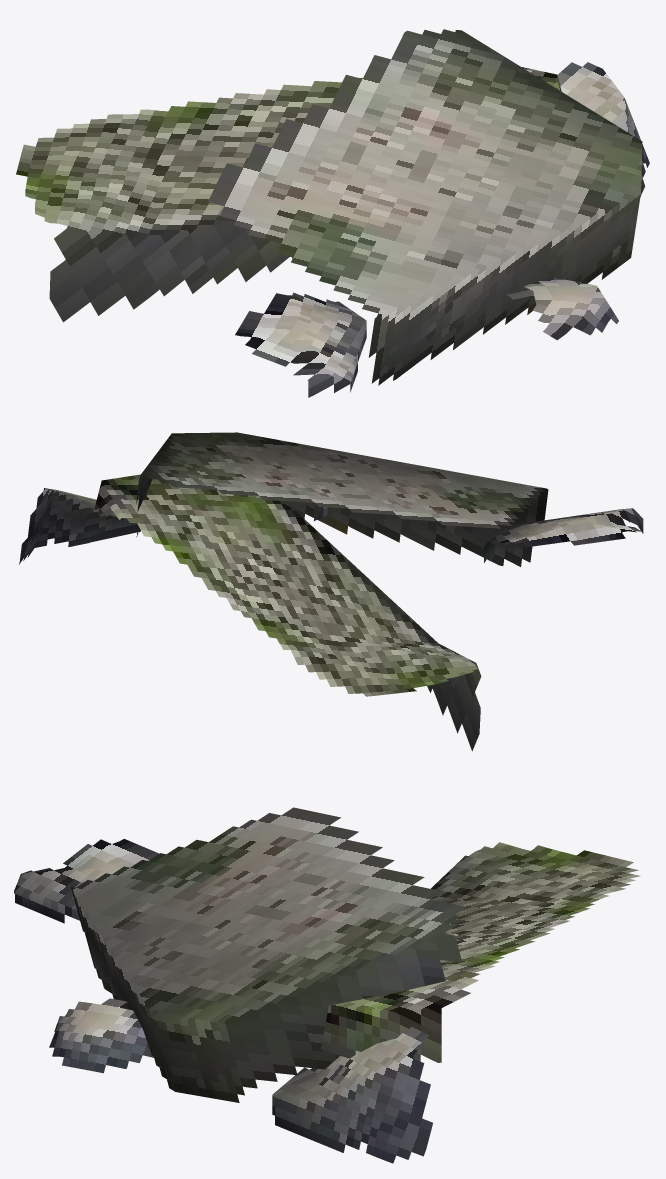
The picture shows the model from 3 angles, top to bottom: view 1: azimuth 30°, elevation 25°; view 2: azimuth 150°, elevation 25°; view 3: azimuth 270°, elevation 25°; orthographic projection. The views are drawn at different scales.
Visible parts, largest first — view 1: 25DBG_Sector01_Zone01_Prop_GroundRock_3, 25DBG_Sector01_Zone01_Prop_GroundRock_2, 25DBG_Sector01_Zone01_Prop_Pebble_2, 25DBG_Sector01_Zone01_Prop_Pebble_3, 25DBG_Sector01_Zone01_Prop_Pebble_1; view 2: 25DBG_Sector01_Zone01_Prop_GroundRock_2, 25DBG_Sector01_Zone01_Prop_GroundRock_3, 25DBG_Sector01_Zone01_Prop_Pebble_1, 25DBG_Sector01_Zone01_Prop_Pebble_2; view 3: 25DBG_Sector01_Zone01_Prop_GroundRock_3, 25DBG_Sector01_Zone01_Prop_GroundRock_2, 25DBG_Sector01_Zone01_Prop_Pebble_1, 25DBG_Sector01_Zone01_Prop_Pebble_3, 25DBG_Sector01_Zone01_Prop_Pebble_2.
Boxes of the visible parts, left/top/right/bottom form: 25DBG_Sector01_Zone01_Prop_GroundRock_3: left=208, top=29, right=642, bottom=385; 25DBG_Sector01_Zone01_Prop_GroundRock_2: left=16, top=67, right=561, bottom=322; 25DBG_Sector01_Zone01_Prop_Pebble_2: left=235, top=292, right=366, bottom=397; 25DBG_Sector01_Zone01_Prop_Pebble_3: left=506, top=278, right=618, bottom=340; 25DBG_Sector01_Zone01_Prop_Pebble_1: left=557, top=62, right=649, bottom=196; 25DBG_Sector01_Zone01_Prop_GroundRock_2: left=90, top=474, right=481, bottom=751; 25DBG_Sector01_Zone01_Prop_GroundRock_3: left=135, top=432, right=548, bottom=566; 25DBG_Sector01_Zone01_Prop_Pebble_1: left=19, top=488, right=140, bottom=564; 25DBG_Sector01_Zone01_Prop_Pebble_2: left=484, top=508, right=643, bottom=562; 25DBG_Sector01_Zone01_Prop_GroundRock_3: left=71, top=807, right=464, bottom=1102; 25DBG_Sector01_Zone01_Prop_GroundRock_2: left=320, top=842, right=640, bottom=1062; 25DBG_Sector01_Zone01_Prop_Pebble_1: left=272, top=1027, right=432, bottom=1163; 25DBG_Sector01_Zone01_Prop_Pebble_3: left=49, top=998, right=153, bottom=1073; 25DBG_Sector01_Zone01_Prop_Pebble_2: left=14, top=839, right=158, bottom=923.
Bounding box in the file's own units: 1.28 × 0.4899 × 1.24.
Materials: 1 (1 with a texture image).
